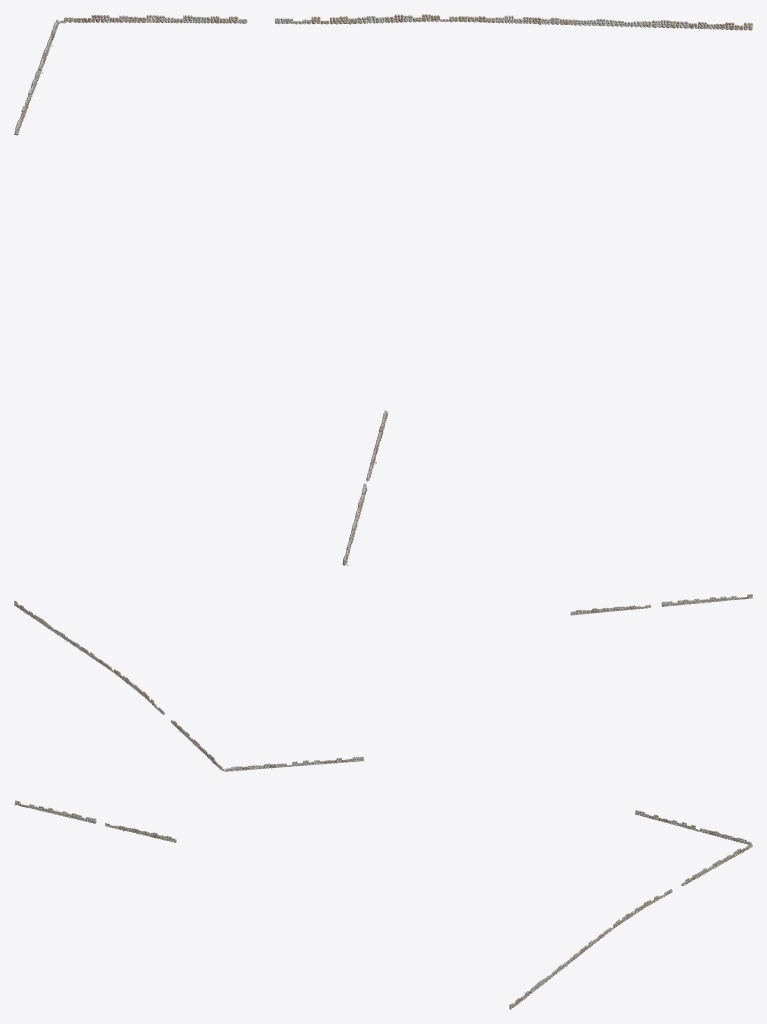
Rendered from farm_-7_6_near.glb.
The picture shows the model from 3 angles, top to bottom: view 1: azimuth 30°, elevation 25°; view 2: azimuth 150°, elevation 25°; view 3: azimuth 270°, elevation 25°; orthographic projection. The views are drawn at different scales.
Visible parts, largest first — view 1: geometry_0; view 2: geometry_0; view 3: geometry_0.
Boxes of the visible parts, <box> form: geometry_0: <box>14,14,752,565</box>; geometry_0: <box>14,594,752,771</box>; geometry_0: <box>14,800,752,1009</box>.
Size of the model in its own units: 156 by 16.64 by 192.
